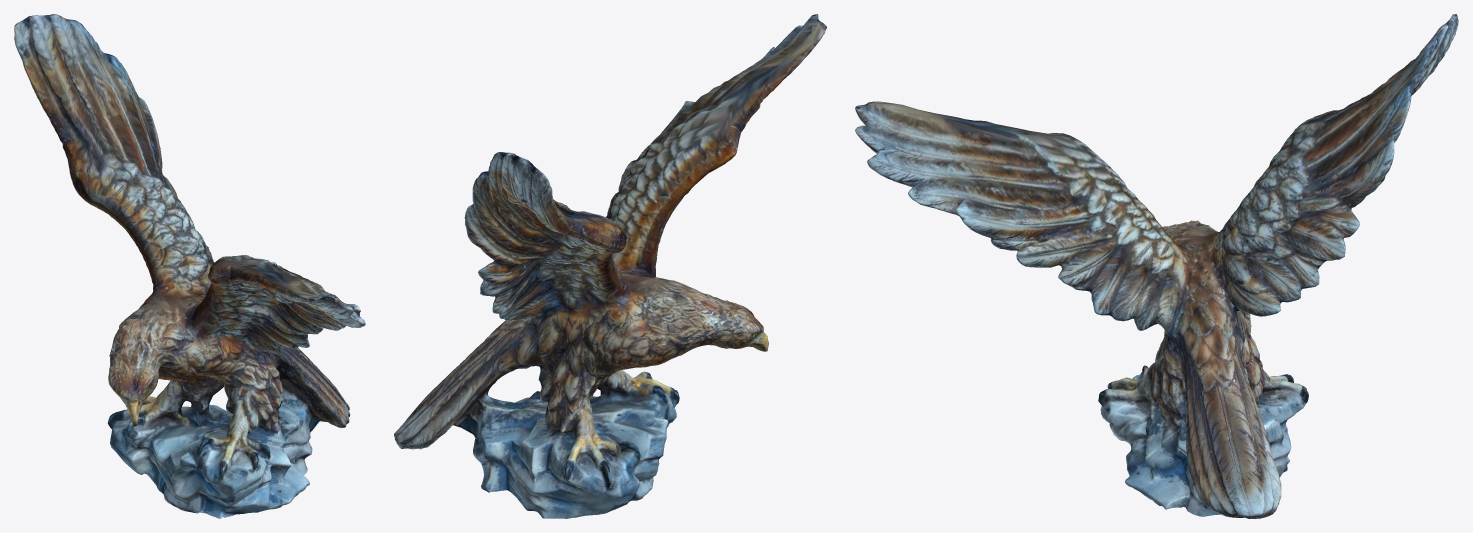
File: eagle_statue-compressed.glb
3 renders of one model, left to right at view 1: azimuth 30°, elevation 25°; view 2: azimuth 150°, elevation 25°; view 3: azimuth 270°, elevation 25°, orthographic. The views are drawn at different scales.
Visible parts, largest first — view 1: adlerobjcleanermaterialmergergles; view 2: adlerobjcleanermaterialmergergles; view 3: adlerobjcleanermaterialmergergles.
Part boxes in pixels (bbox=[...]): adlerobjcleanermaterialmergergles: bbox=[14, 14, 365, 518]; adlerobjcleanermaterialmergergles: bbox=[394, 14, 826, 518]; adlerobjcleanermaterialmergergles: bbox=[855, 14, 1458, 518].
Bounding box in the file's own units: 0.6289 × 0.857 × 1.11.
1 material, 1 textured.
